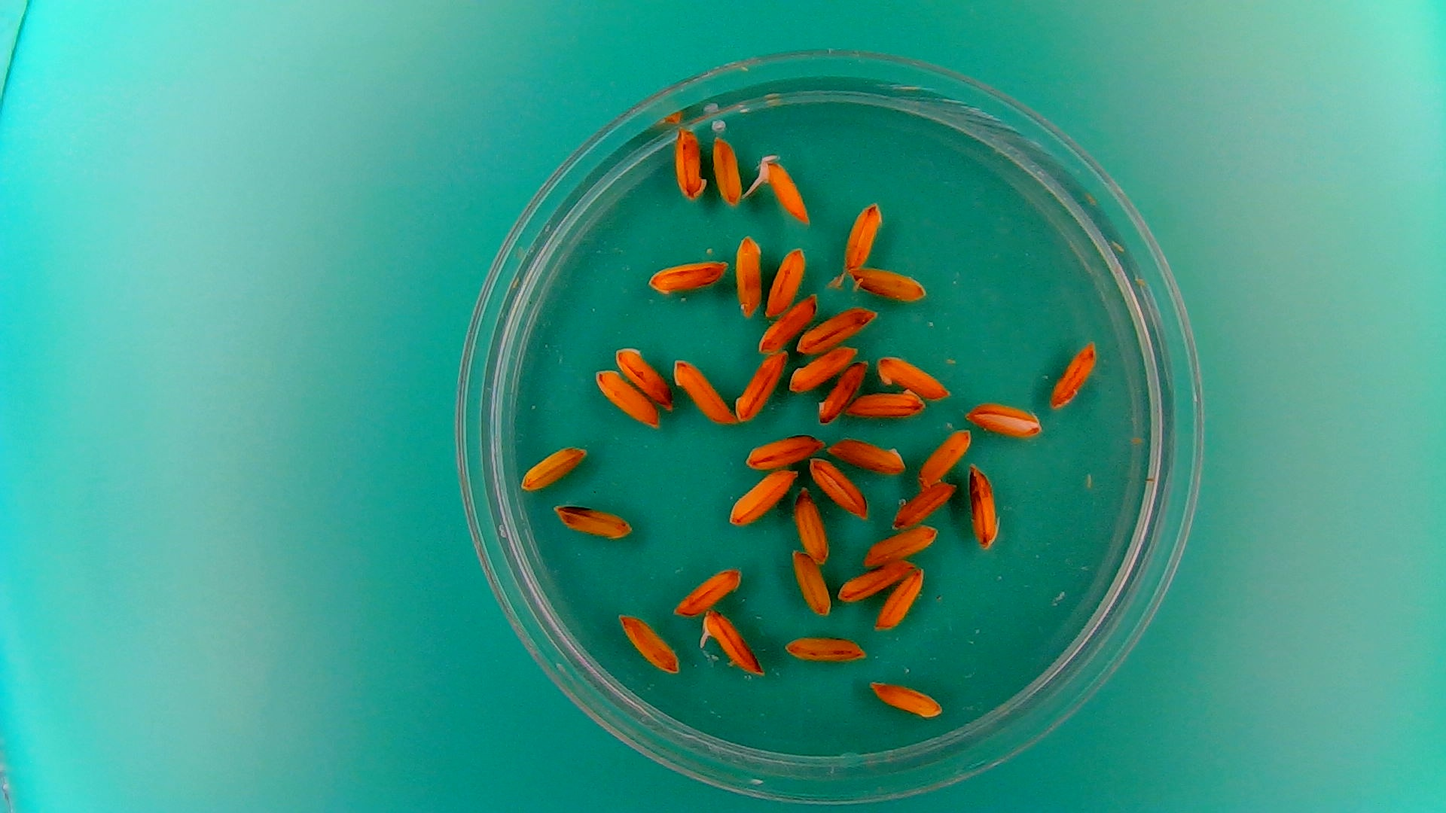no: (725, 465, 799, 527), (671, 355, 734, 425), (793, 304, 879, 355), (615, 610, 682, 675), (733, 348, 789, 424), (593, 366, 660, 428), (807, 455, 870, 519), (670, 562, 743, 617), (756, 291, 819, 353), (613, 344, 673, 407), (873, 351, 953, 398), (786, 343, 859, 394), (1049, 338, 1100, 411), (835, 558, 914, 603), (824, 433, 909, 474), (892, 479, 959, 531), (875, 564, 926, 632), (816, 356, 868, 422), (862, 522, 940, 566), (519, 444, 589, 493), (918, 426, 972, 489), (868, 677, 947, 720), (964, 398, 1044, 440), (842, 384, 928, 423), (646, 257, 731, 296), (763, 243, 807, 318), (846, 263, 928, 303), (551, 501, 634, 540), (967, 458, 1002, 549), (841, 199, 884, 273), (789, 547, 833, 618), (743, 431, 825, 469), (793, 484, 831, 565), (671, 122, 709, 201), (782, 630, 870, 664), (734, 230, 764, 319), (709, 132, 743, 208)
yes: (698, 605, 763, 678), (756, 151, 812, 224)
